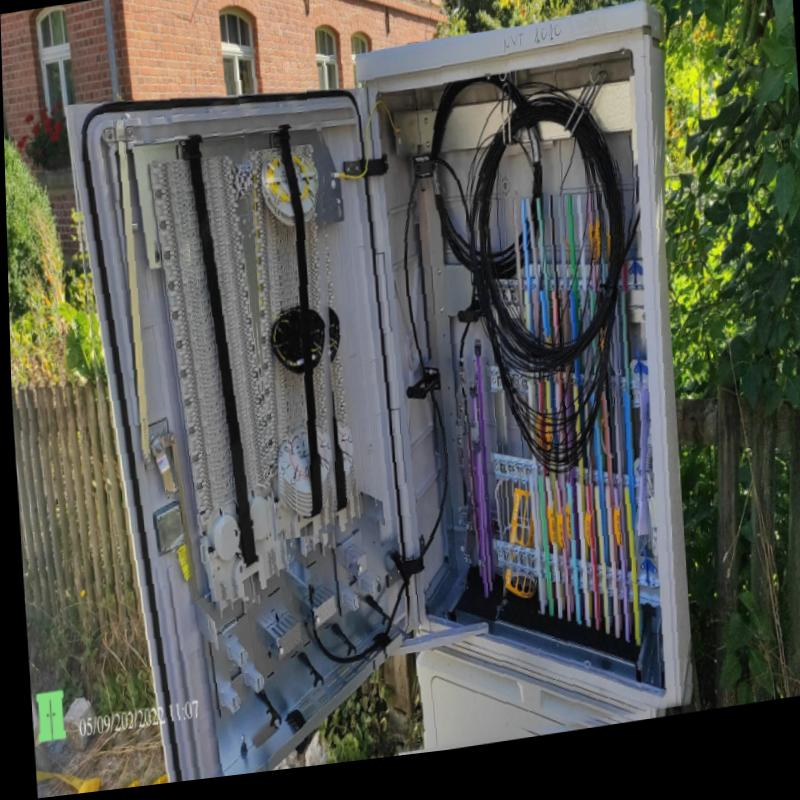NT-Gehause: (67, 22, 670, 787)
Spleiskassetten: (143, 142, 269, 607), (247, 139, 336, 546)
